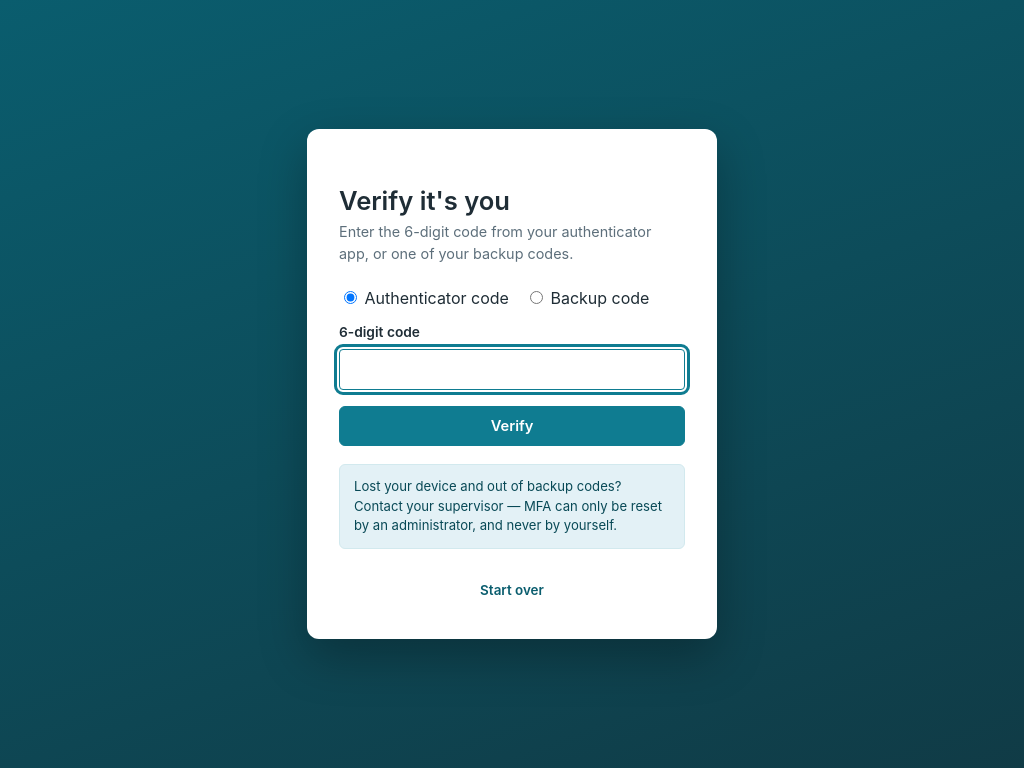
Test: login-challenge screen › shows a generic error and does not store a session on a wrong code
The image size is (1024, 768).
expect the heading "Verify it's you" is shown: met, box x1=339 y1=185 x2=510 y2=216
Type "000000" into the field labelled "6-digit code" at (512, 369), box x1=339 y1=349 x2=685 y2=390
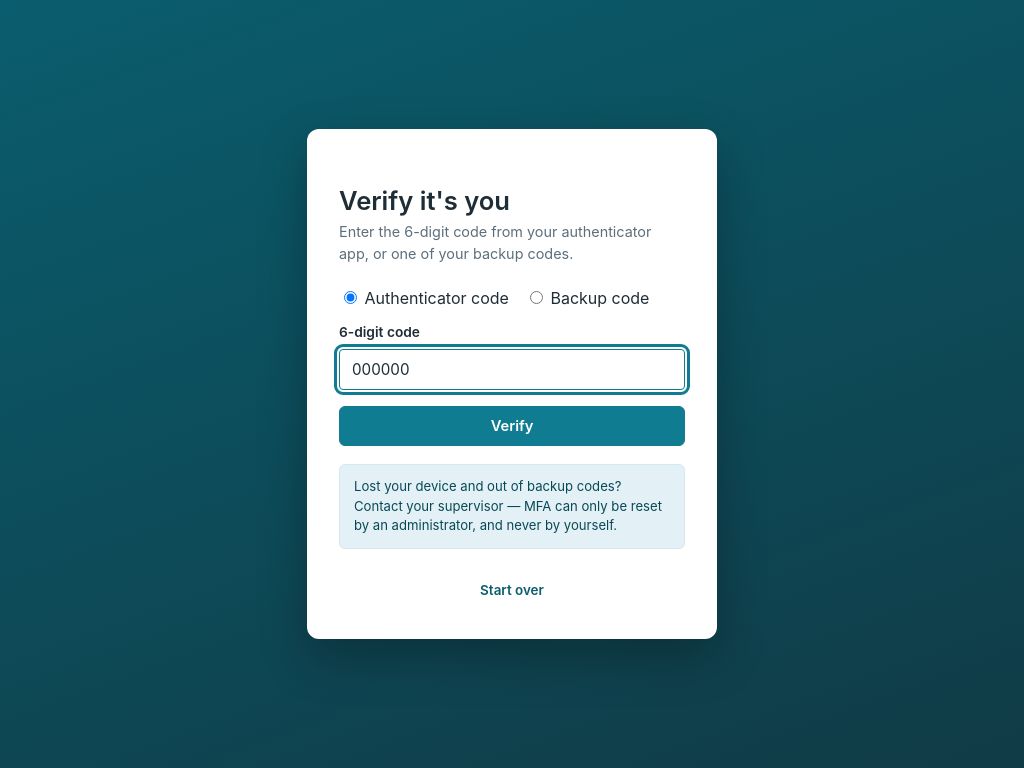
Click the button "Verify" at (512, 426), box x1=339 y1=406 x2=685 y2=446
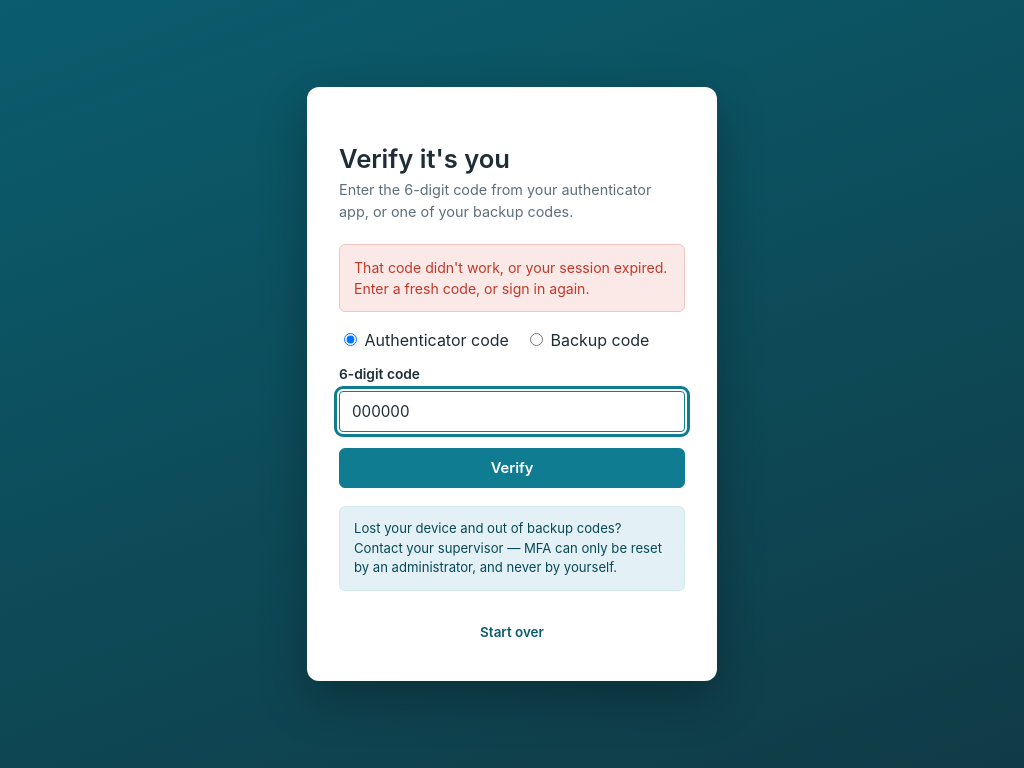
expect the message is shown: met, box x1=339 y1=244 x2=685 y2=312
